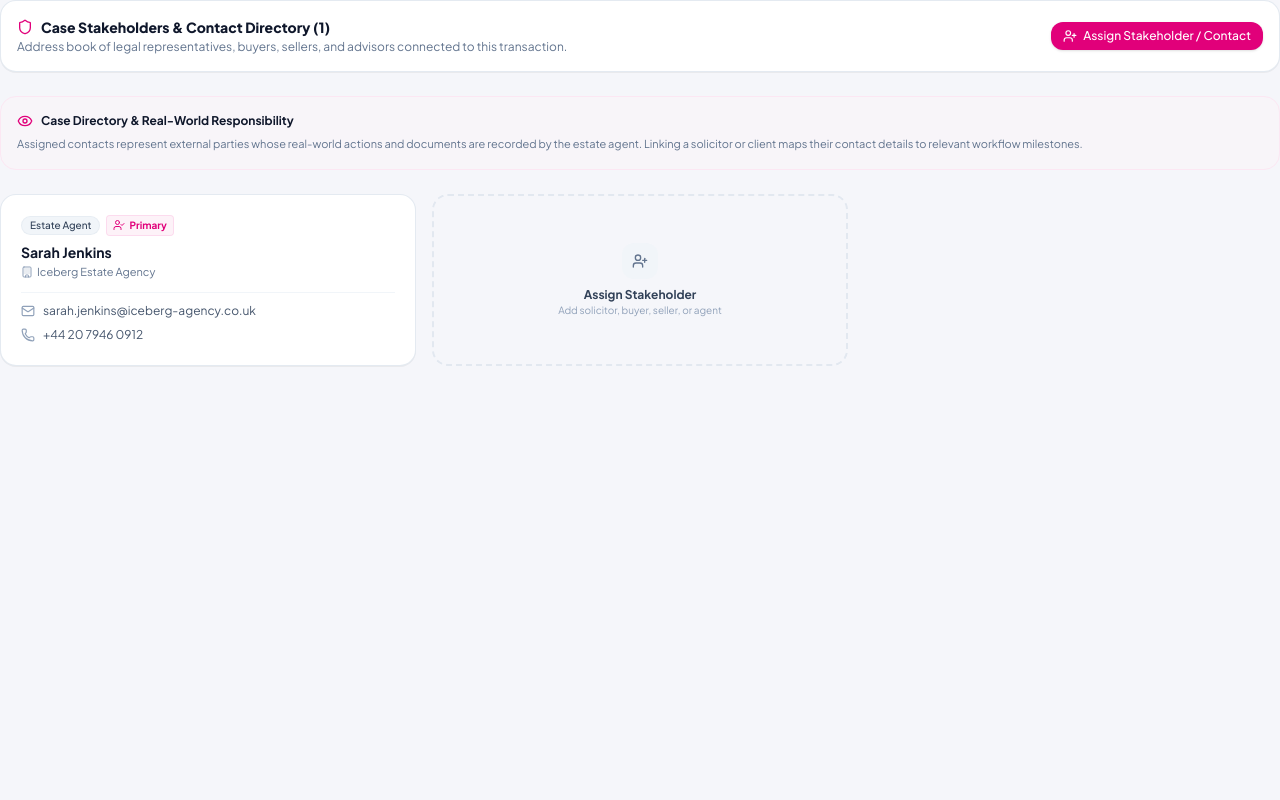
Scenario: ParticipantsTab & Directory Stakeholder Assignment › gracefully displays backend validation error in form error banner
Click the button "Assign Stakeholder / Contact" at coordinates (1157, 36), box top-left (1051, 22), bottom-right (1263, 50)
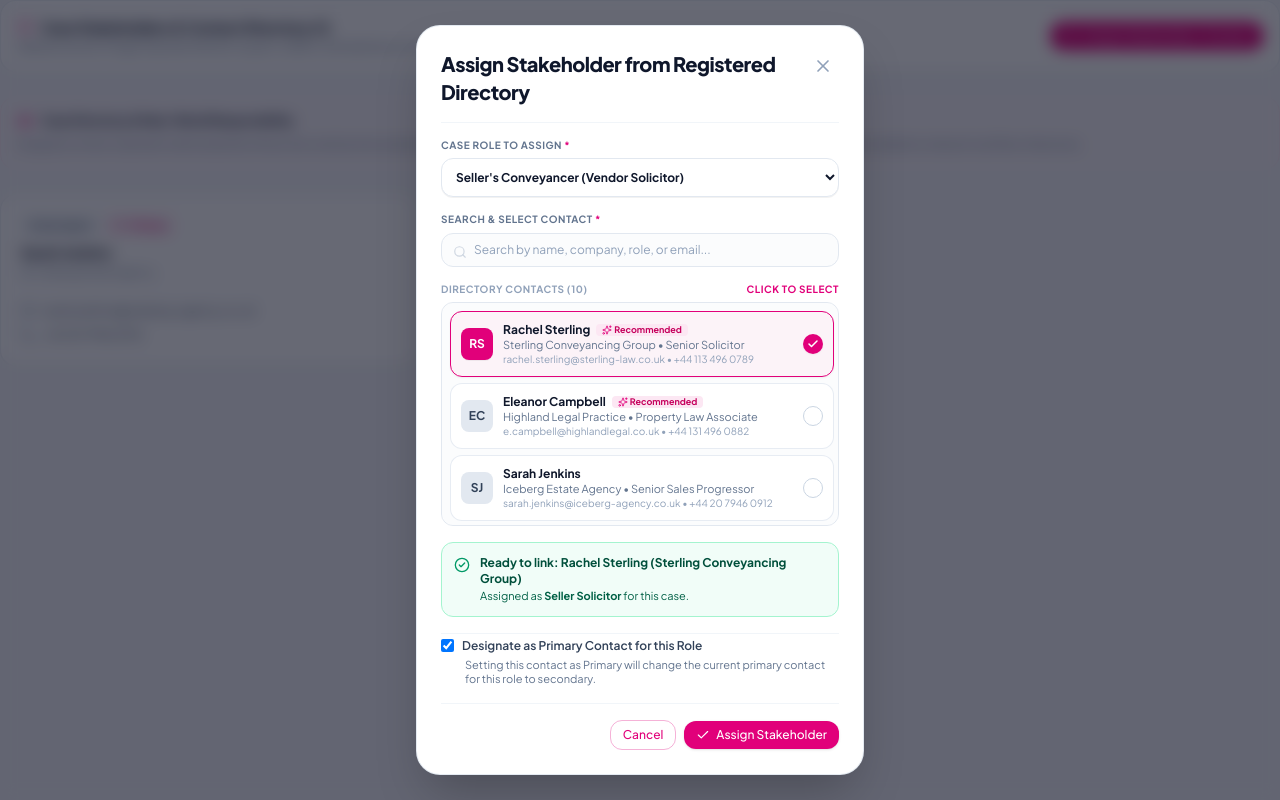
Type "David" into the field with placeholder "Search by name, company, role, or email..." at coordinates (640, 250), box top-left (441, 233), bottom-right (839, 267)
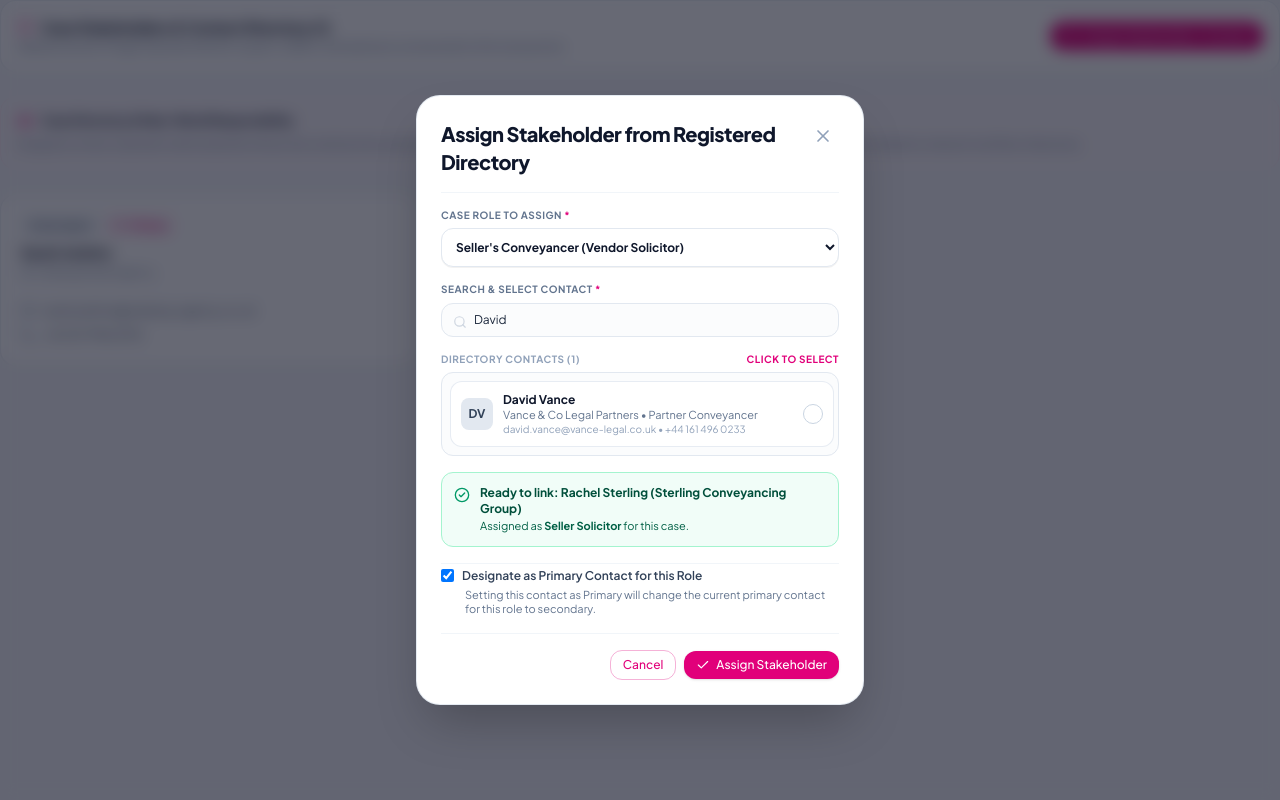
Click the text "David Vance" at coordinates (539, 400), box top-left (503, 392), bottom-right (575, 408)
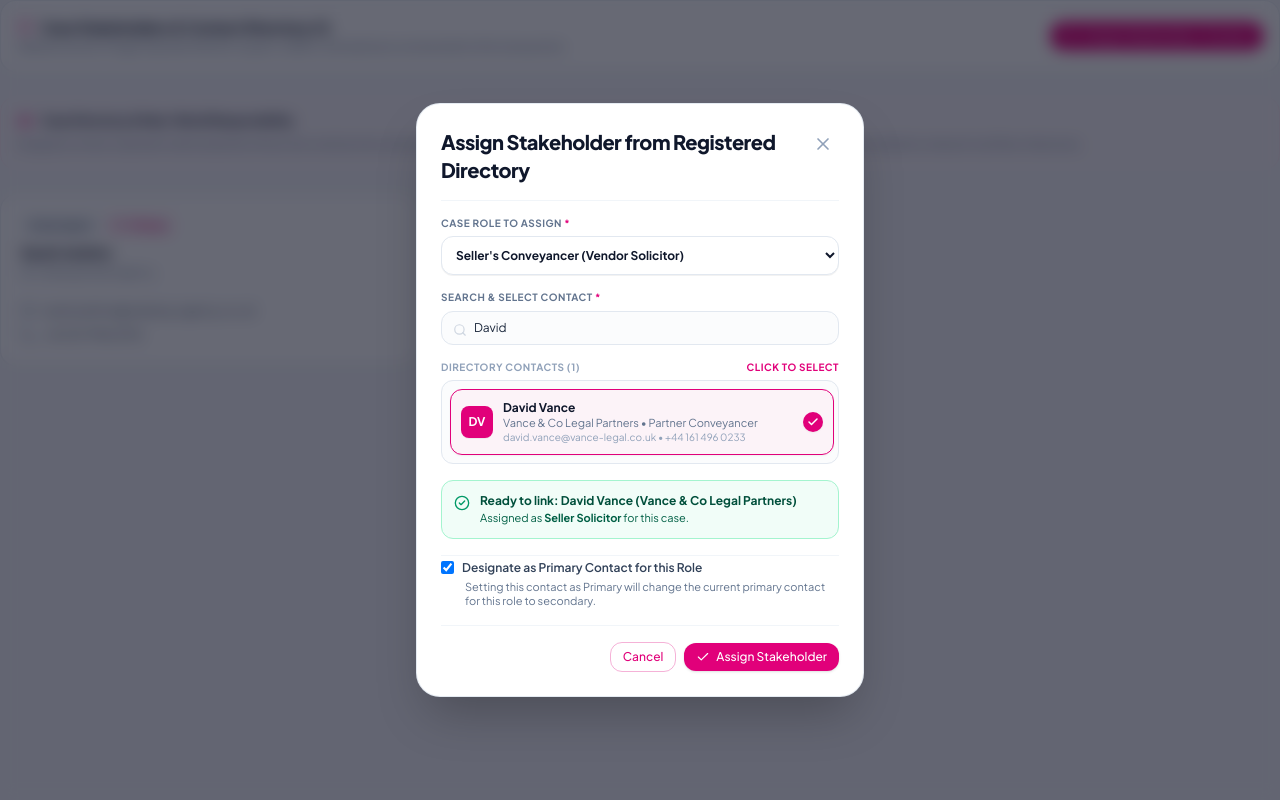
Click the button with test id "assign-stakeholder-submit-btn" at coordinates (762, 657), box top-left (684, 643), bottom-right (839, 671)
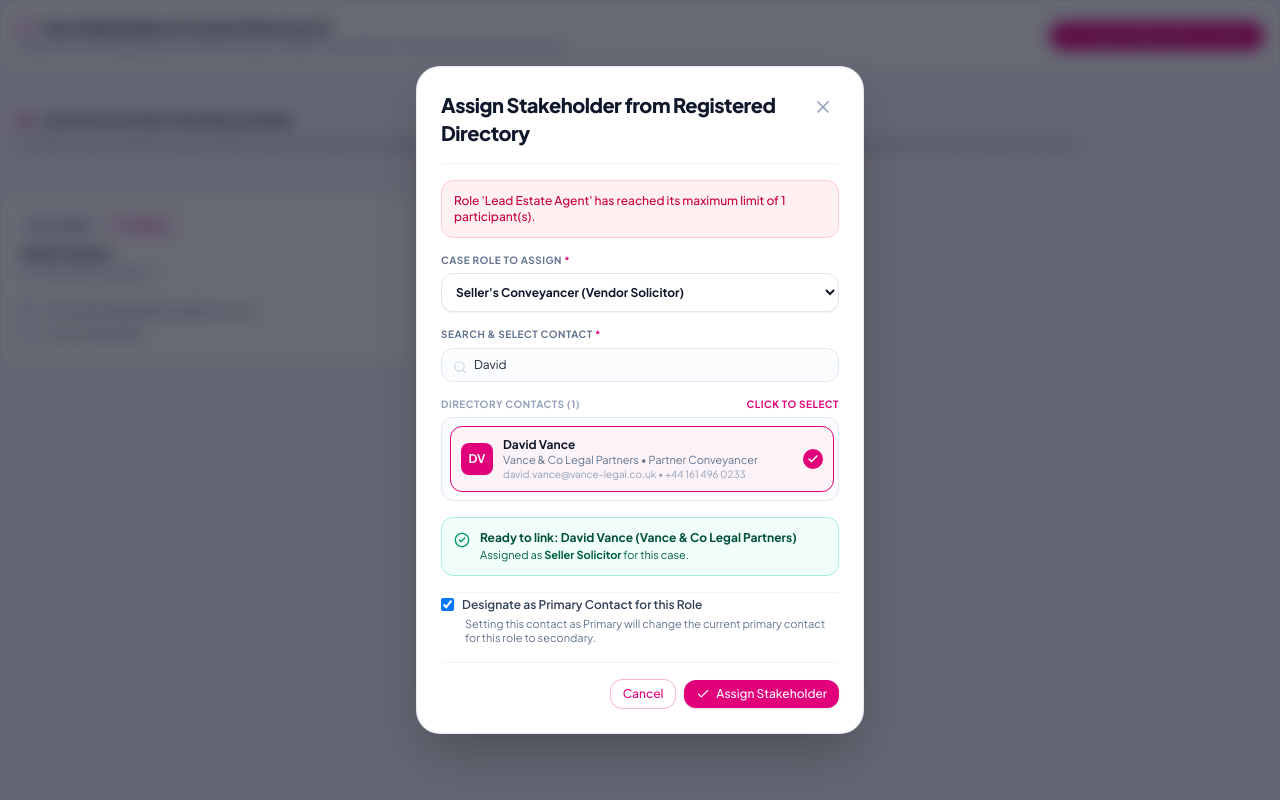
Expected: the text "Role 'Lead Estate Agent' has reached its maximum limit of 1 participant(s)." is shown, top-left (441, 180), bottom-right (839, 238)
